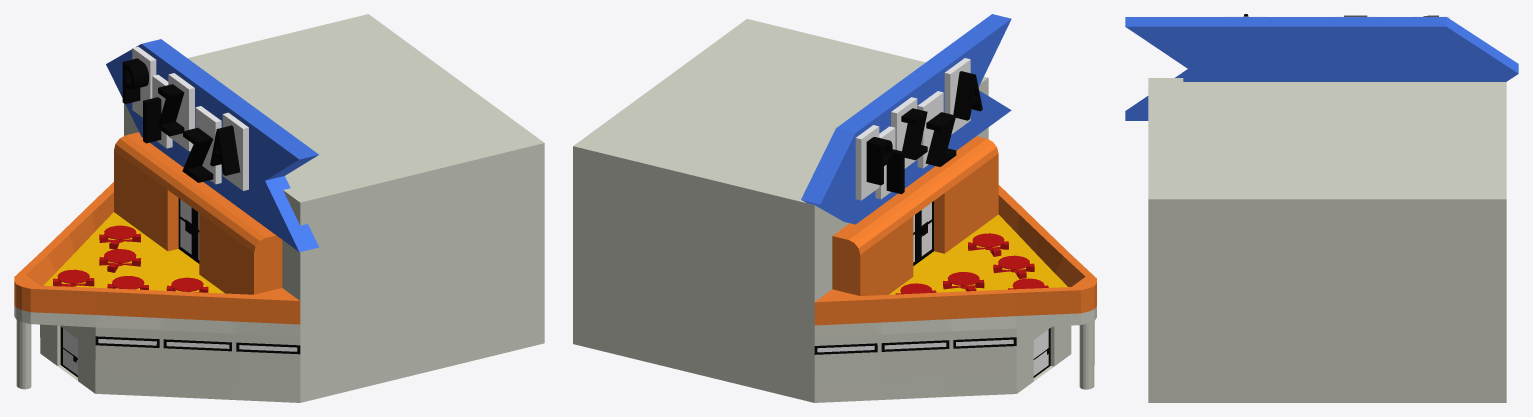
The model's file is pizzeria.glb.
The picture shows the model from 3 angles, left to right: view 1: azimuth 30°, elevation 25°; view 2: azimuth 150°, elevation 25°; view 3: azimuth 270°, elevation 25°; orthographic projection. The views are drawn at different scales.
Visible parts, largest first — view 1: Cylinder.003; view 2: Cylinder.003; view 3: Cylinder.003.
Part boxes in pixels (left/top/right/bottom): Cylinder.003: left=14, top=14, right=544, bottom=402; Cylinder.003: left=573, top=14, right=1096, bottom=402; Cylinder.003: left=1125, top=14, right=1518, bottom=402.
Size of the model in its own units: 350 by 195 by 267.
Materials: 1 (1 with a texture image).
